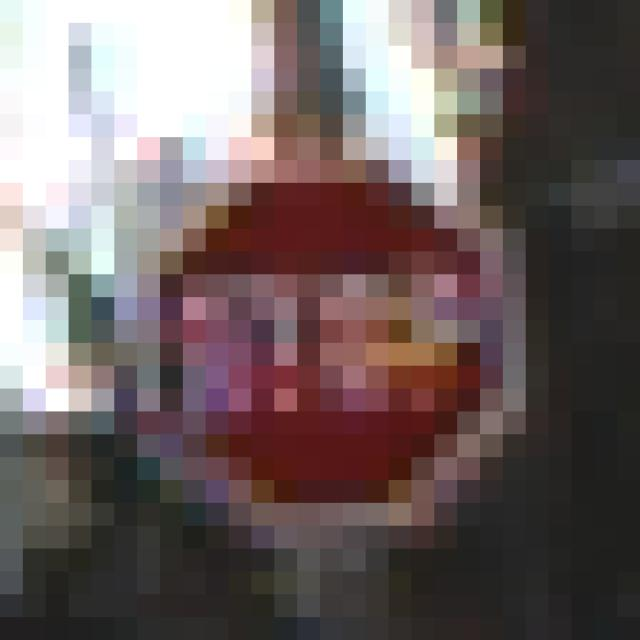STOP: (115, 115, 527, 527)
